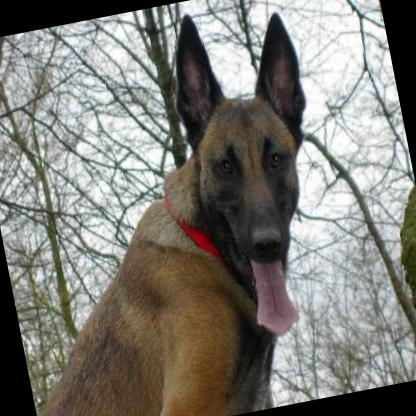malinois: (0, 0, 360, 416)
